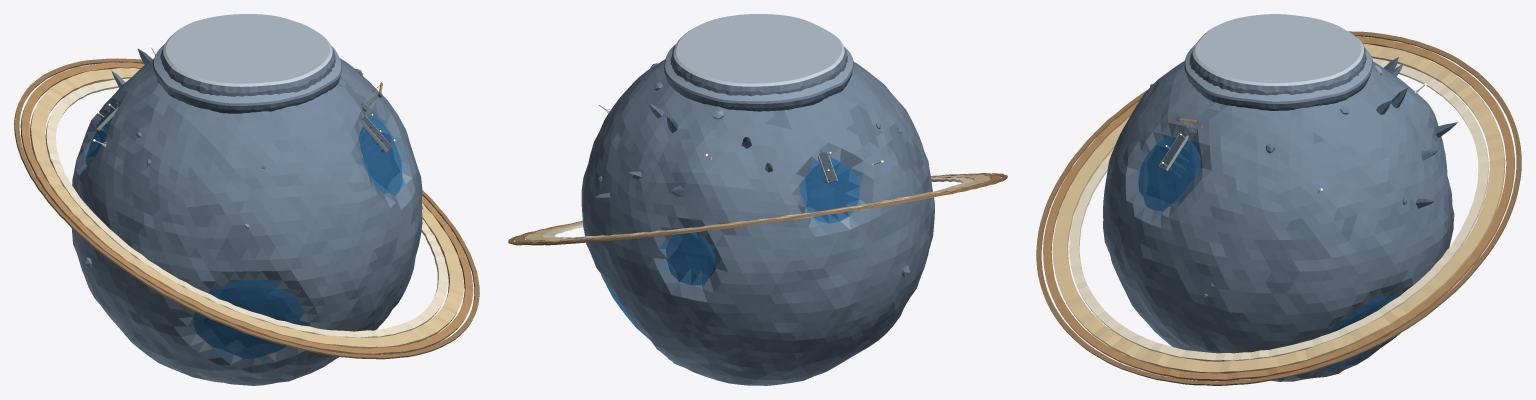
Rendered from 09_Ringhaven.glb.
3 views of the same model, side by side, from view 1: azimuth 30°, elevation 25°; view 2: azimuth 150°, elevation 25°; view 3: azimuth 270°, elevation 25° (orthographic).
Visible parts, largest first — view 1: Ringhaven_Body, Ringhaven_Deco_Ring, Ringhaven_BuildArea, Ringhaven_Ocean, Ringhaven_Terraces, Ringhaven_Deco_Docks; view 2: Ringhaven_Body, Ringhaven_BuildArea, Ringhaven_Ocean, Ringhaven_Deco_Ring, Ringhaven_Terraces, Ringhaven_Deco_RockSpires, Ringhaven_Deco_Docks; view 3: Ringhaven_Body, Ringhaven_Deco_Ring, Ringhaven_BuildArea, Ringhaven_Ocean, Ringhaven_Terraces, Ringhaven_Deco_RockSpires, Ringhaven_Deco_Docks.
Part boxes in pixels (x1,y1,x2,y2): Ringhaven_Body: (71, 58, 422, 385); Ringhaven_Deco_Ring: (14, 58, 479, 359); Ringhaven_BuildArea: (160, 14, 335, 96); Ringhaven_Ocean: (85, 116, 402, 358); Ringhaven_Terraces: (153, 44, 342, 113); Ringhaven_Deco_Docks: (96, 82, 395, 160); Ringhaven_Body: (581, 59, 934, 385); Ringhaven_BuildArea: (670, 14, 847, 96); Ringhaven_Ocean: (601, 156, 859, 340); Ringhaven_Deco_Ring: (508, 173, 1007, 245); Ringhaven_Terraces: (664, 44, 853, 111); Ringhaven_Deco_RockSpires: (595, 103, 772, 202); Ringhaven_Deco_Docks: (817, 151, 837, 188); Ringhaven_Body: (1103, 61, 1454, 381); Ringhaven_Deco_Ring: (1036, 31, 1521, 385); Ringhaven_BuildArea: (1189, 14, 1366, 95); Ringhaven_Ocean: (1138, 136, 1399, 370); Ringhaven_Terraces: (1184, 45, 1372, 110); Ringhaven_Deco_RockSpires: (1376, 57, 1457, 208); Ringhaven_Deco_Docks: (1159, 116, 1202, 177).
Size of the model in its own units: 2.84 by 2.08 by 2.87.
